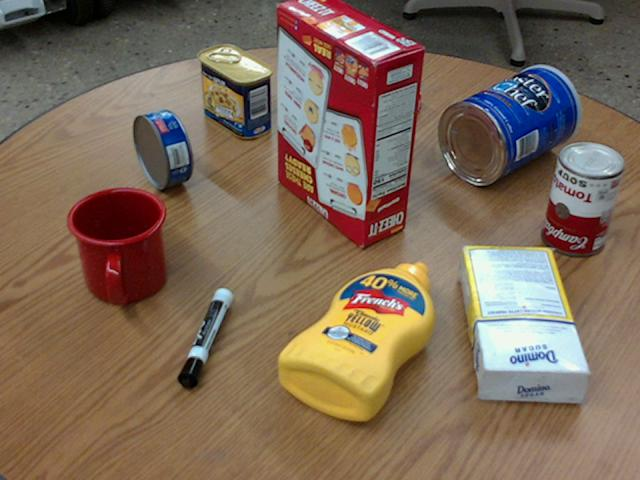cracker_box: (275, 0, 423, 245)
gelatin_box: (337, 68, 420, 125)
large_marker: (176, 287, 231, 388)
master_chef_can: (437, 65, 579, 184)
mug: (66, 187, 166, 305)
mustard_bottle: (276, 261, 433, 422)
potted_meat_can: (196, 45, 272, 138)
sugar_box: (457, 245, 590, 401)
tomato_soup_can: (540, 140, 622, 254)
tuna_fish_can: (134, 110, 191, 188)
